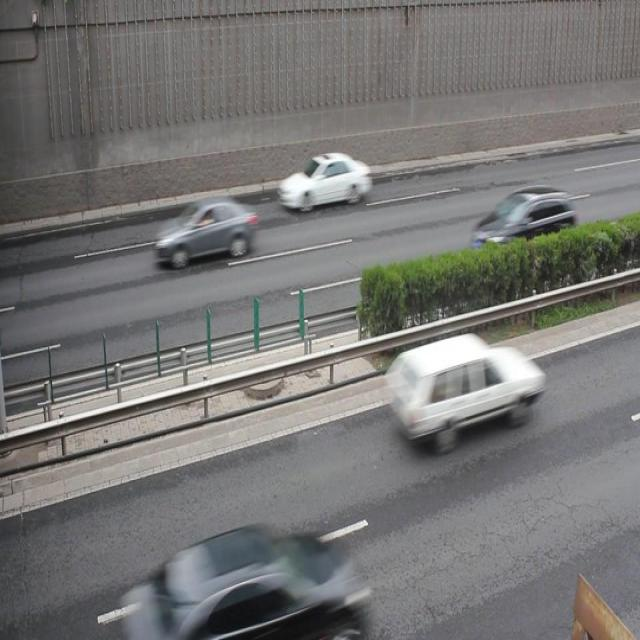car: (129, 522, 363, 640), (383, 332, 540, 447), (469, 184, 574, 256), (154, 196, 254, 264), (278, 152, 369, 210)
